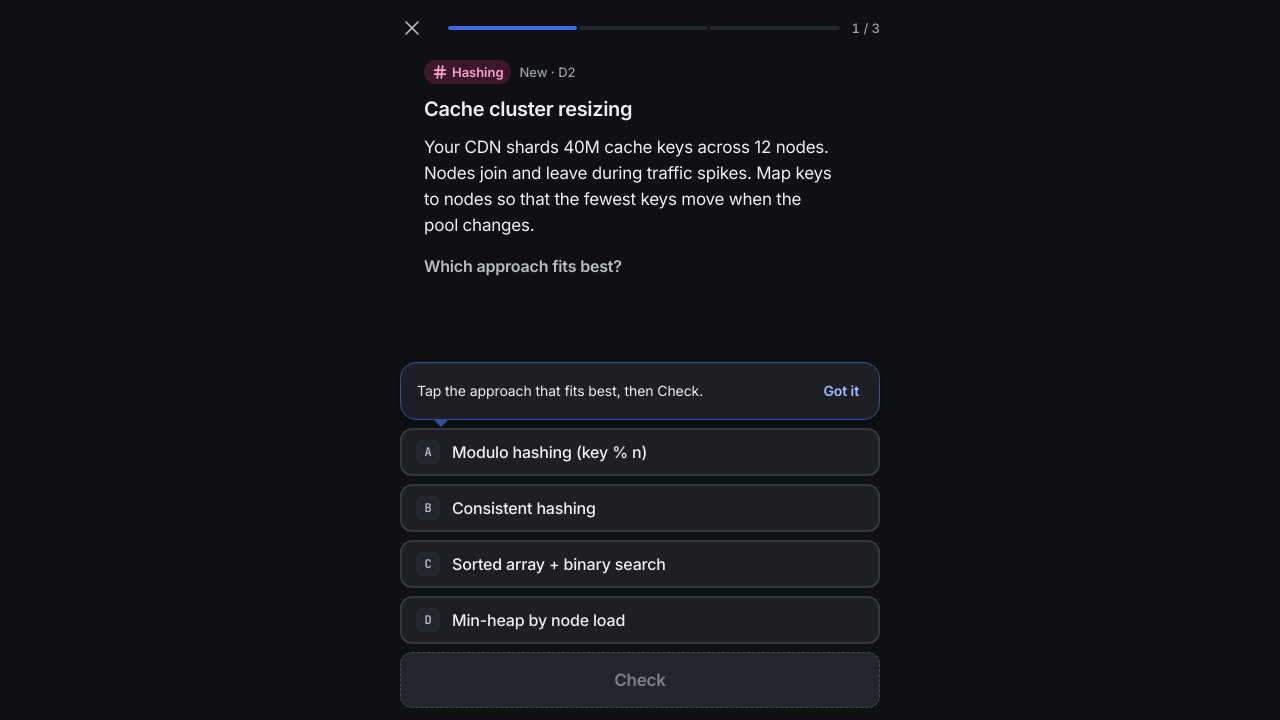
Test: Session: explanation and ending › [X] opens the ConfirmSheet with Keep going focused; Keep going changes nothing
The image size is (1280, 720).
Step 1. Click the radio button labelled "Consistent hashing" → (524, 508), box [400,484,880,532]
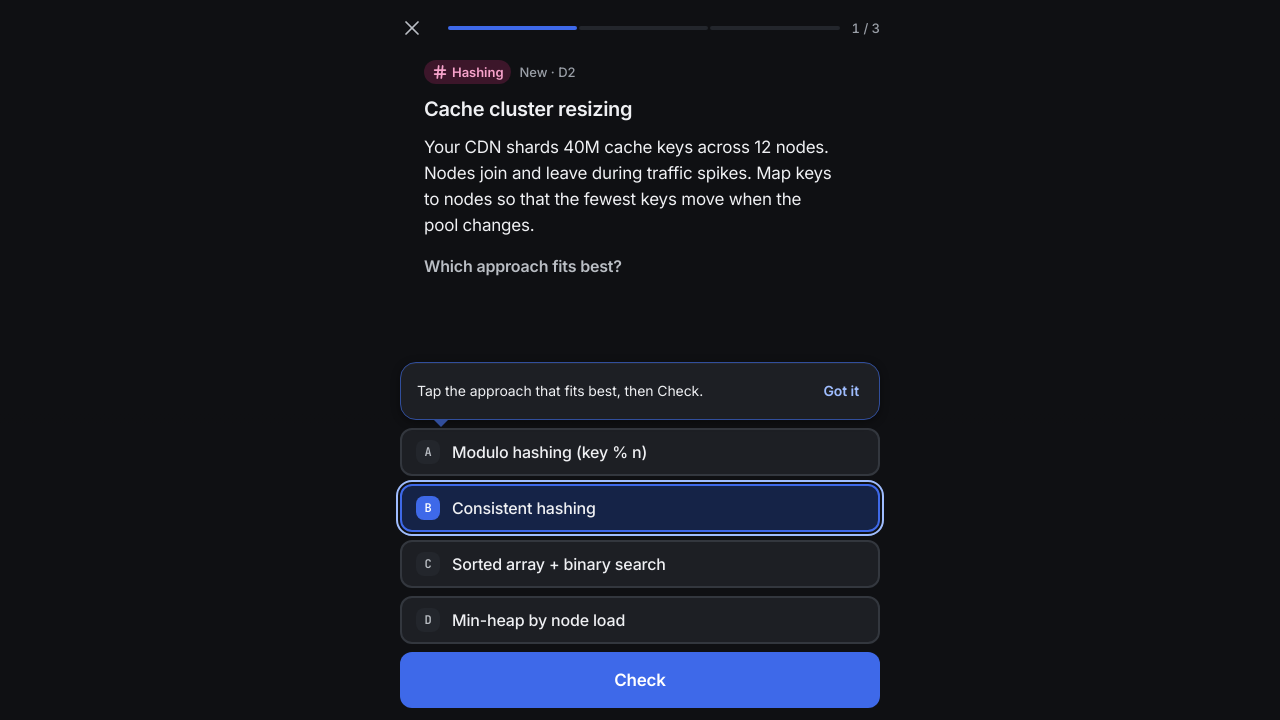
Step 2. Click the button named "End session" → (412, 28), box [388,4,436,52]
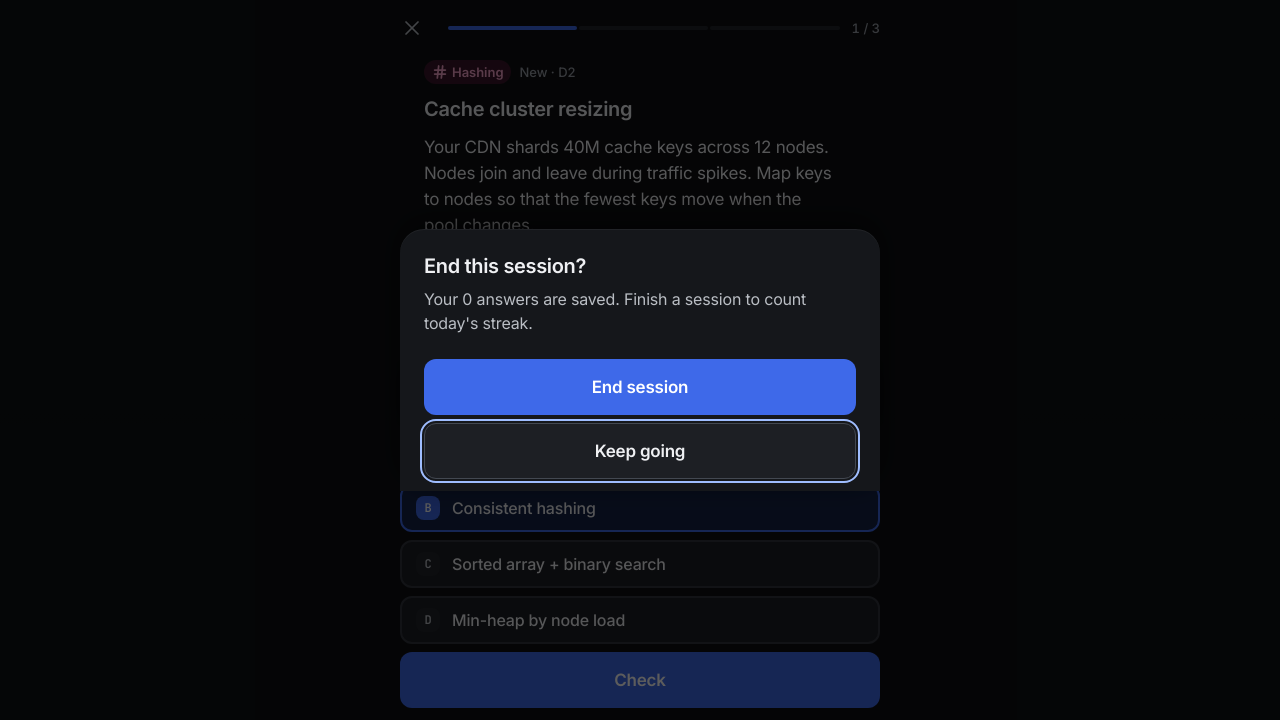
Now the buttons read "End session", "Keep going", in this order
Step 3. Click the button "Keep going" → (640, 451), box [424,423,856,479]
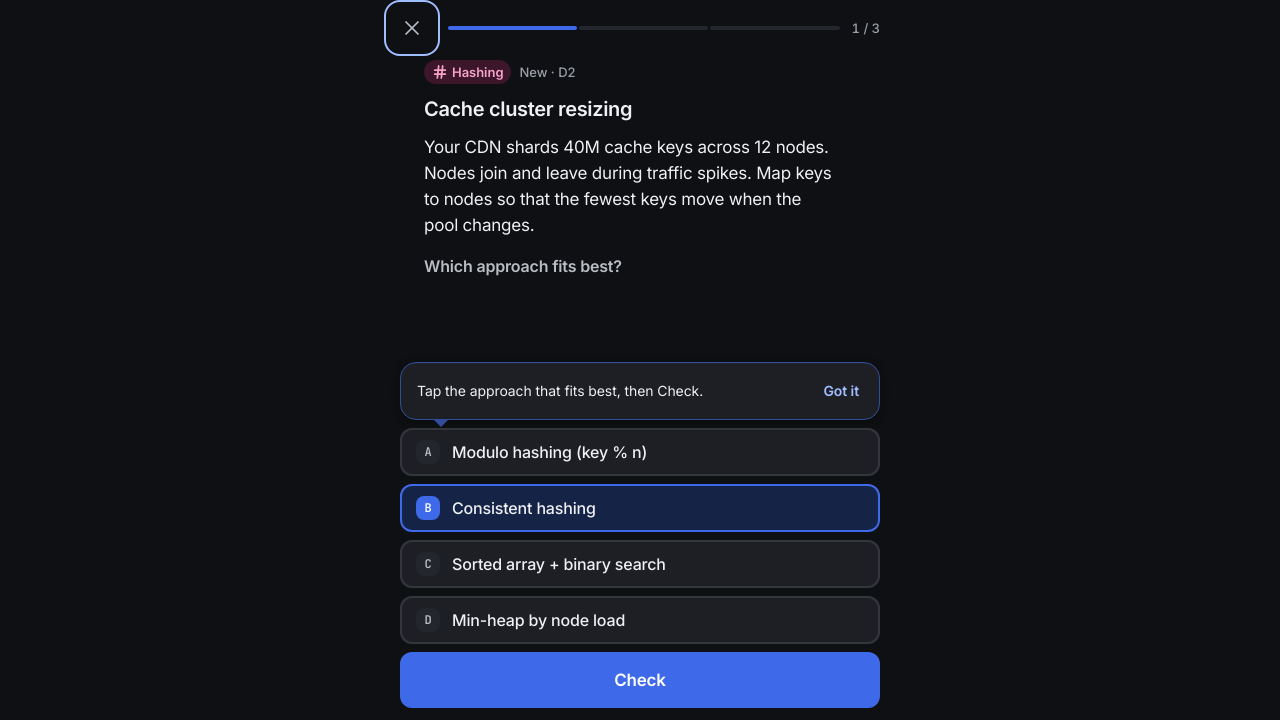
Now the dialog is gone
